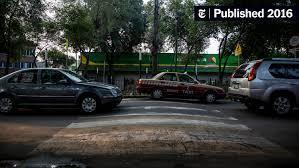speedbreaker: (75, 97, 243, 162)
